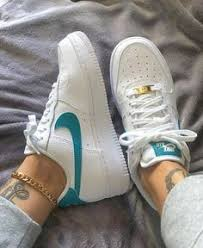nike: (53, 111, 86, 198)
